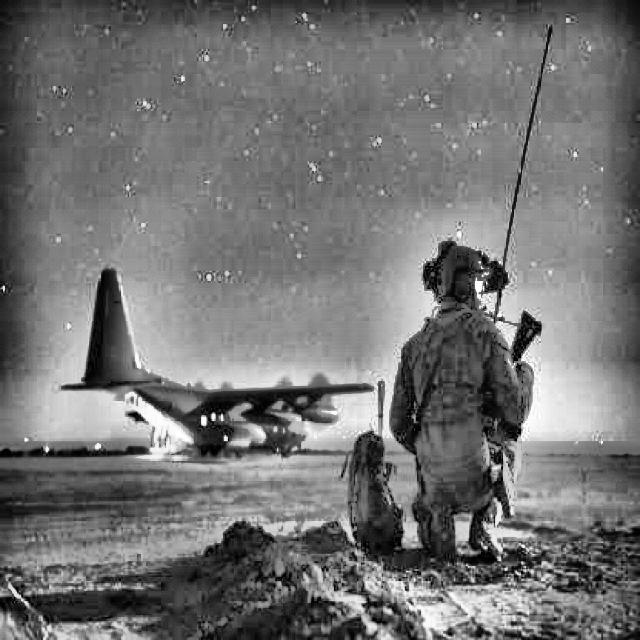C130: (59, 267, 375, 458)
